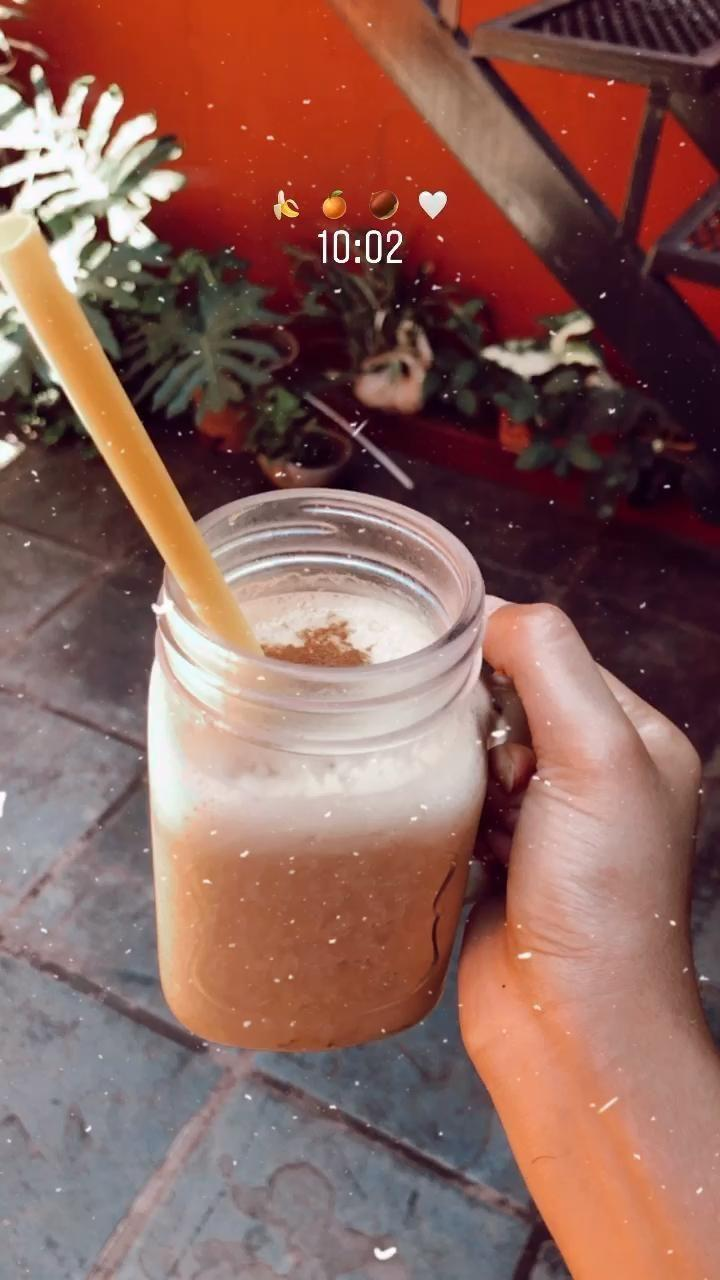glass-mug: (142, 482, 596, 1050)
